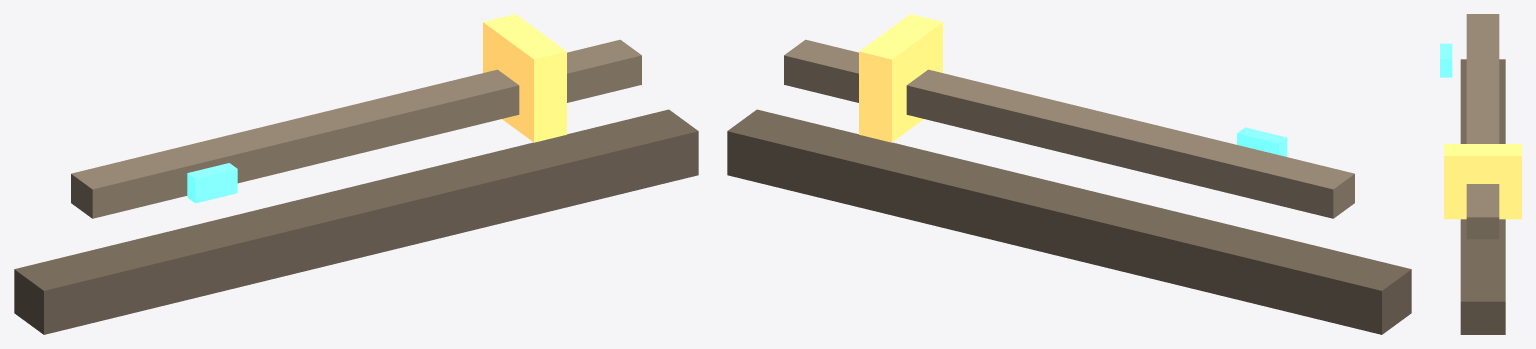
The model's file is refinery-service-conduit-lod2.glb.
3 renders of one model, left to right at view 1: azimuth 30°, elevation 25°; view 2: azimuth 150°, elevation 25°; view 3: azimuth 270°, elevation 25°, orthographic. The views are drawn at different scales.
Parts seen in each view (by area): view 1: refinery-service-conduit-trunk, refinery-service-conduit-upper, refinery-service-conduit-valve, refinery-service-conduit-status; view 2: refinery-service-conduit-trunk, refinery-service-conduit-upper, refinery-service-conduit-valve, refinery-service-conduit-status; view 3: refinery-service-conduit-upper, refinery-service-conduit-trunk, refinery-service-conduit-valve, refinery-service-conduit-status.
Part boxes in pixels (bbox=[...]): refinery-service-conduit-trunk: bbox=[14, 109, 698, 334]; refinery-service-conduit-upper: bbox=[71, 39, 641, 218]; refinery-service-conduit-valve: bbox=[483, 14, 566, 142]; refinery-service-conduit-status: bbox=[187, 163, 237, 203]; refinery-service-conduit-trunk: bbox=[727, 109, 1411, 334]; refinery-service-conduit-upper: bbox=[784, 39, 1354, 218]; refinery-service-conduit-valve: bbox=[859, 14, 942, 142]; refinery-service-conduit-status: bbox=[1237, 127, 1287, 156]; refinery-service-conduit-upper: bbox=[1466, 14, 1499, 239]; refinery-service-conduit-trunk: bbox=[1460, 59, 1505, 334]; refinery-service-conduit-valve: bbox=[1444, 144, 1521, 219]; refinery-service-conduit-status: bbox=[1440, 43, 1452, 77].
Bounding box in the file's own units: 2.8 × 0.68 × 0.4.
